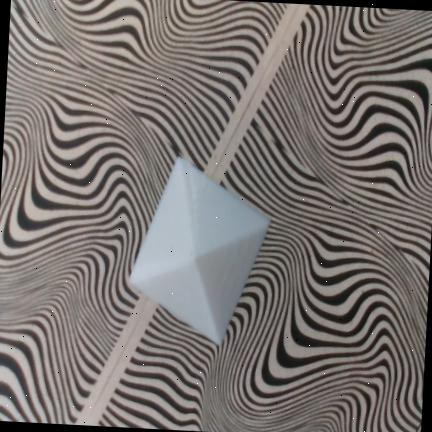Piramide: (130, 157, 272, 344)
